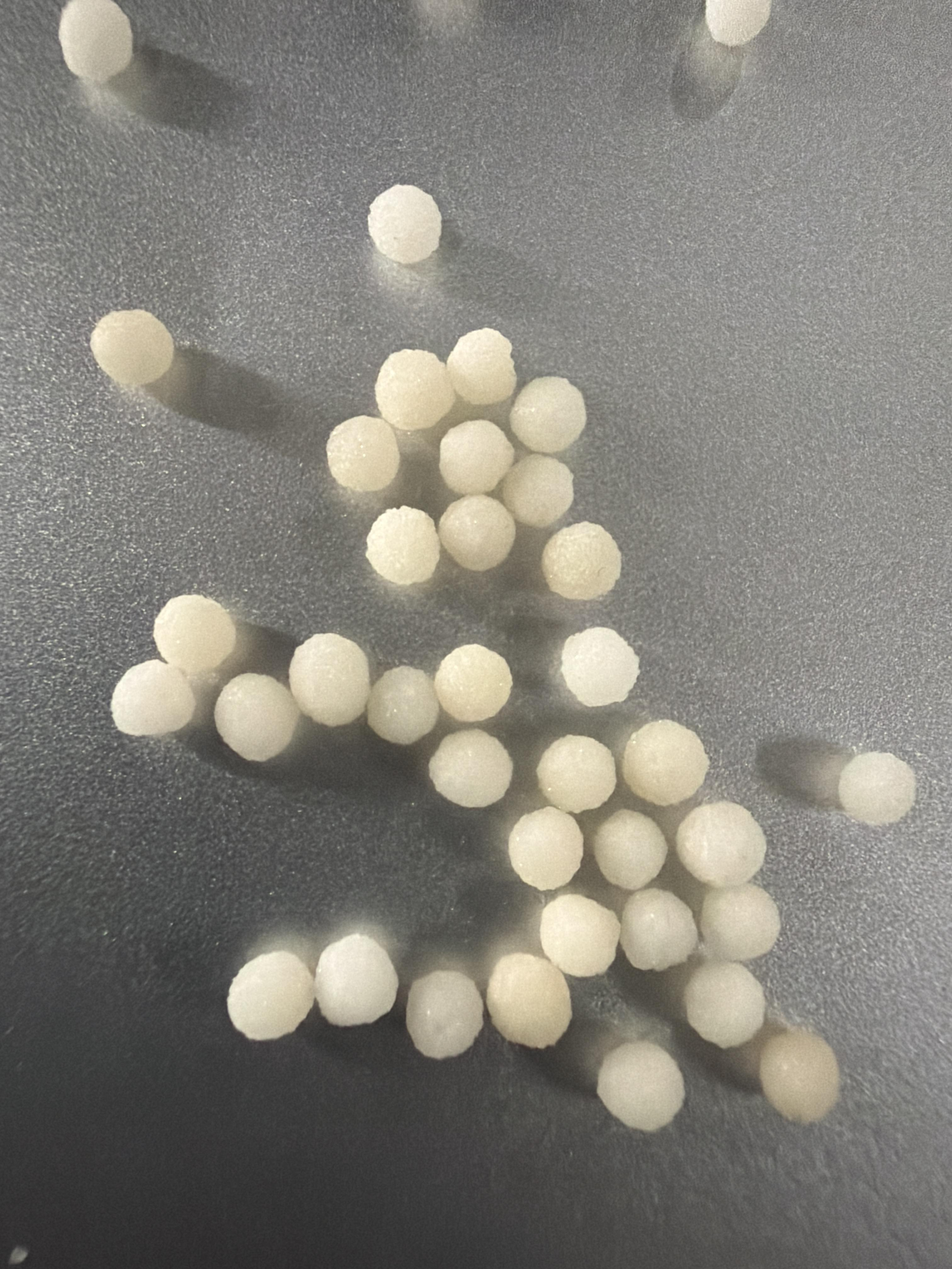pill: (486, 953, 571, 1048), (597, 1041, 684, 1131), (227, 950, 314, 1040), (314, 933, 398, 1026), (676, 801, 766, 887), (759, 1029, 840, 1123), (214, 673, 300, 761), (289, 633, 370, 726), (622, 720, 709, 805), (684, 961, 765, 1048), (406, 970, 483, 1059), (428, 729, 513, 807), (153, 595, 237, 673), (540, 895, 620, 976), (375, 349, 455, 430), (111, 659, 196, 735), (90, 310, 174, 386), (620, 888, 697, 970), (700, 883, 780, 961), (561, 627, 639, 707), (541, 522, 621, 600), (508, 807, 583, 890), (537, 735, 616, 813), (58, 0, 133, 82), (434, 644, 512, 722), (592, 809, 667, 890), (368, 184, 442, 264), (438, 495, 515, 571), (366, 506, 440, 585), (510, 377, 586, 453), (326, 415, 400, 492), (367, 666, 439, 745), (439, 419, 514, 494), (838, 752, 915, 825), (447, 328, 516, 405), (502, 454, 573, 528), (706, 0, 771, 46)
